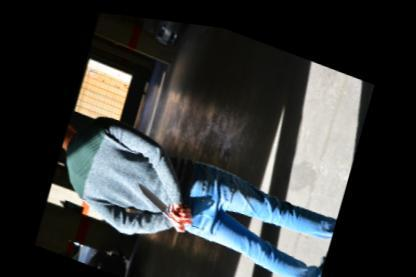knife: (130, 174, 194, 224)
